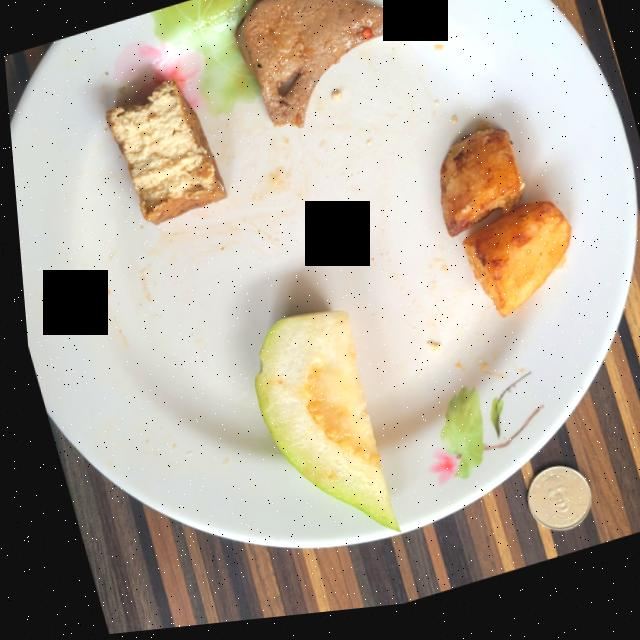coin: (517, 477, 582, 542)
egg tofu: (103, 84, 223, 228)
fried potato: (435, 138, 566, 327)
guava -sliced-: (247, 318, 388, 538)
pig liver: (234, 0, 411, 135)
